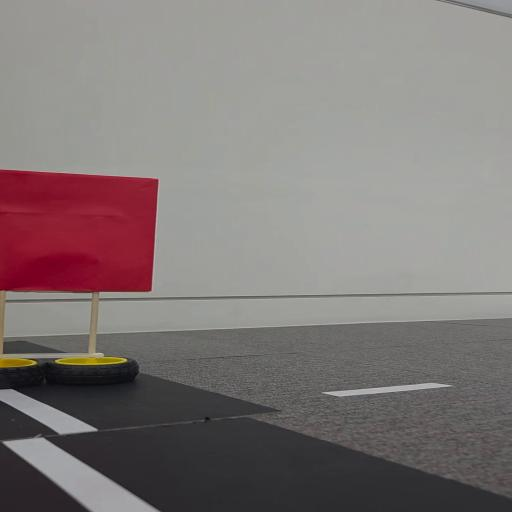Sign_A: (2, 169, 174, 393)
